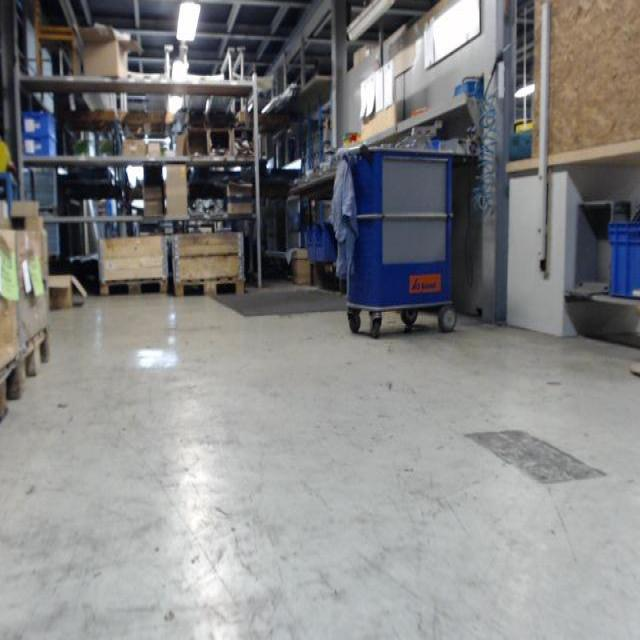pallet: (21, 320, 51, 399), (173, 275, 246, 302), (98, 274, 170, 298), (0, 349, 22, 426)
small_load_carrier: (610, 219, 639, 299), (22, 110, 60, 138), (306, 231, 334, 260), (21, 138, 58, 155)
